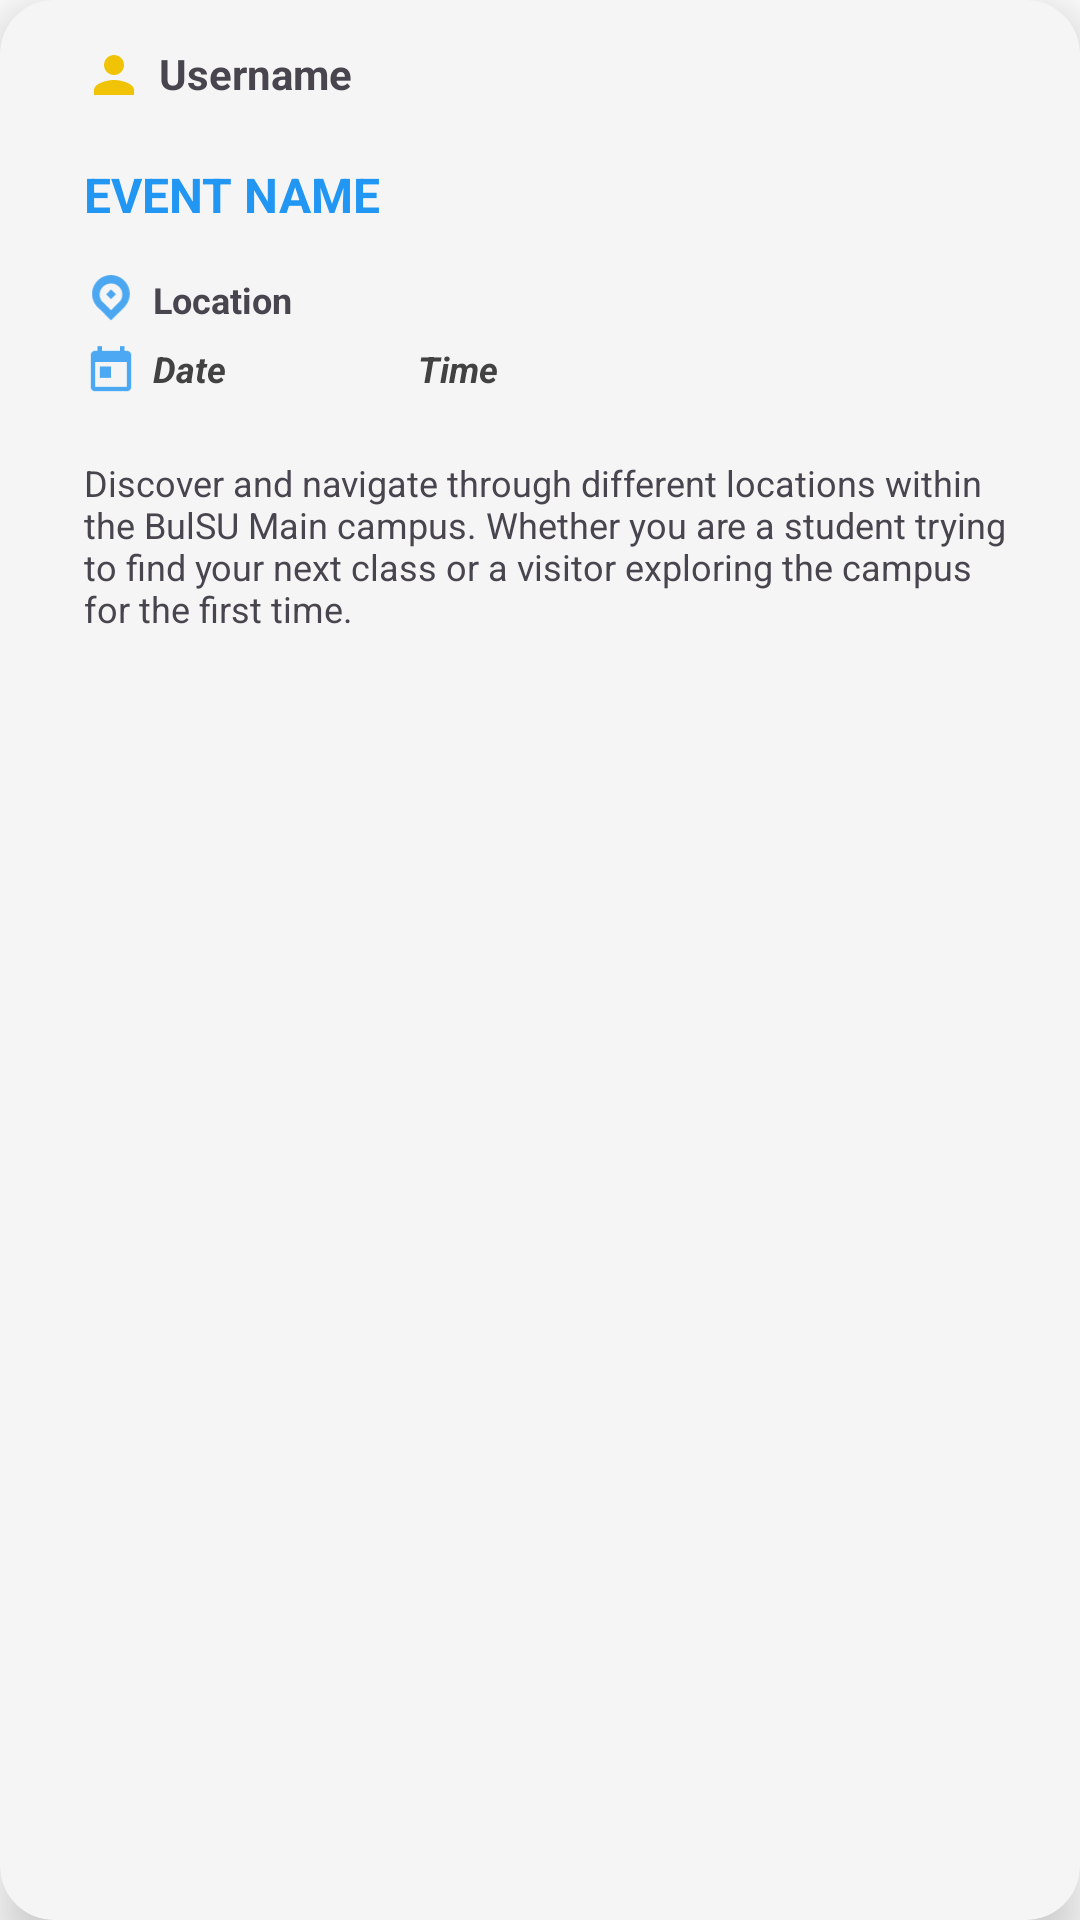

Locate icon controls on the screen. Image size 1080x1920, boxes as (x1,y1,x2,y2).
calendar: (90,346,132,392)
person: (94,55,134,95)
